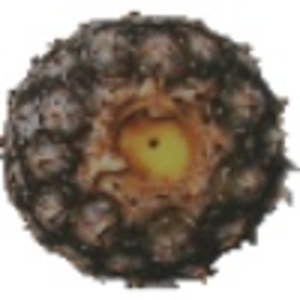abacaxi: (3, 10, 287, 280)
